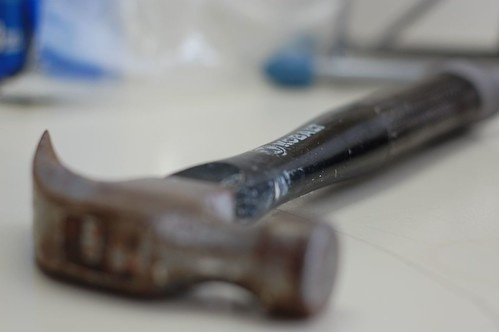hammer: (28, 62, 486, 314)
